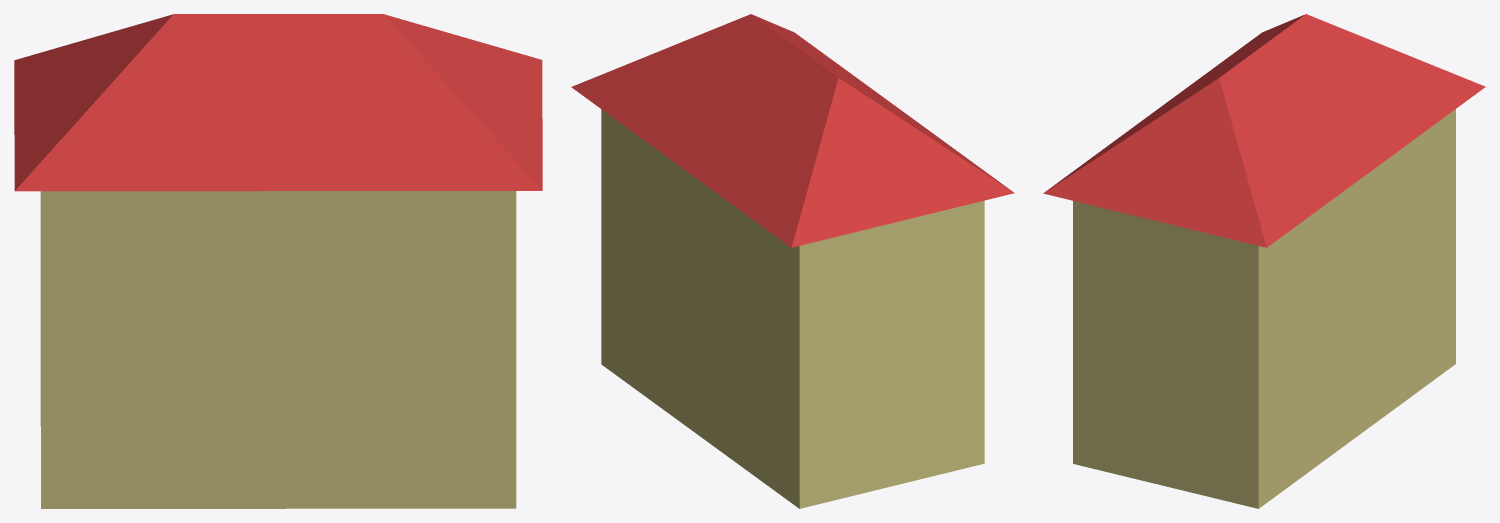
3 renders of one model, left to right at view 1: azimuth 30°, elevation 25°; view 2: azimuth 150°, elevation 25°; view 3: azimuth 270°, elevation 25°, orthographic. The views are drawn at different scales.
Visible parts, largest first — view 1: group_5, group_3, group_4; view 2: group_5, group_3, group_4; view 3: group_5, group_3, group_4.
Part boxes in pixels (<box>): group_5: <box>40,191,516,508</box>; group_3: <box>14,14,542,191</box>; group_4: <box>14,52,542,191</box>; group_5: <box>601,109,984,508</box>; group_3: <box>574,14,1012,247</box>; group_4: <box>571,75,1014,247</box>; group_5: <box>1073,109,1455,508</box>; group_3: <box>1043,14,1485,246</box>; group_4: <box>1045,87,1484,247</box>.
Bounding box in the file's own units: 23.13 × 20.09 × 18.4.
